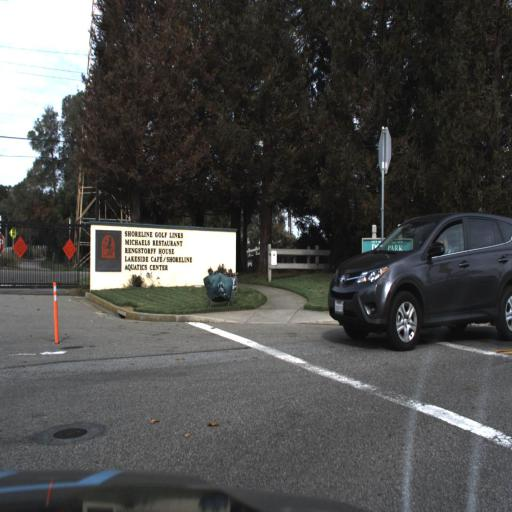car: (323, 205, 511, 346)
